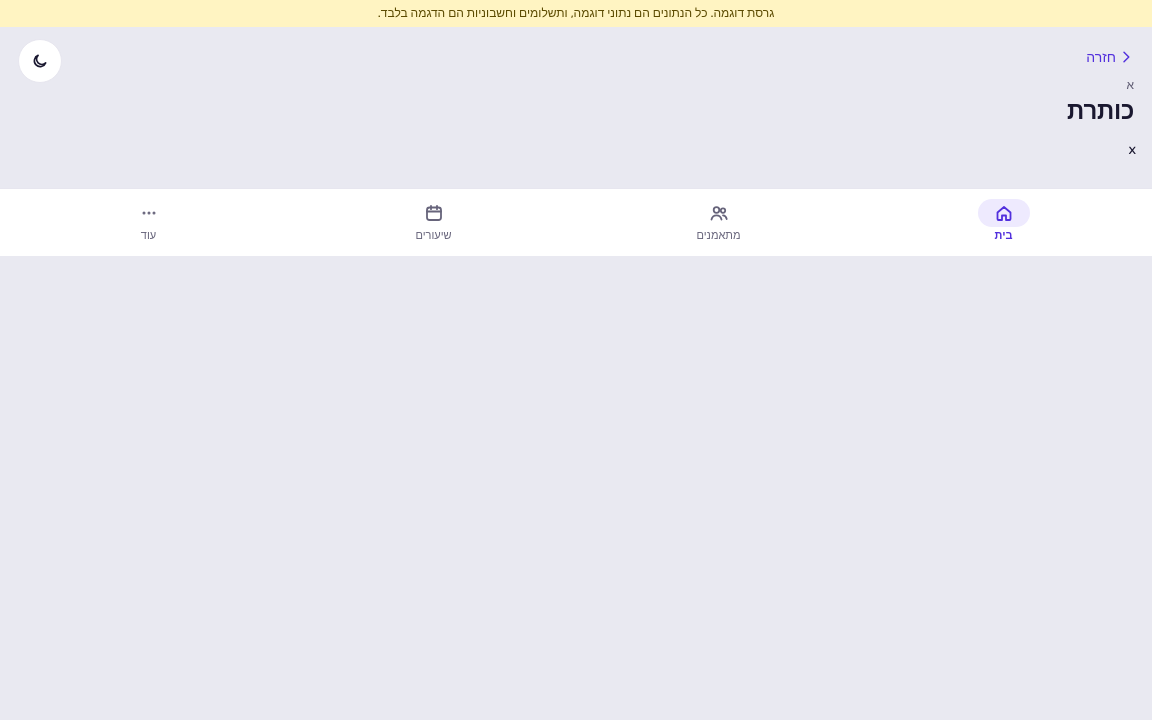
Test: finding 27: the theme button names the mode it moves to, and the choice is kept
Click the button named "מצב כהה" at (40, 61), box [18,39,62,83]
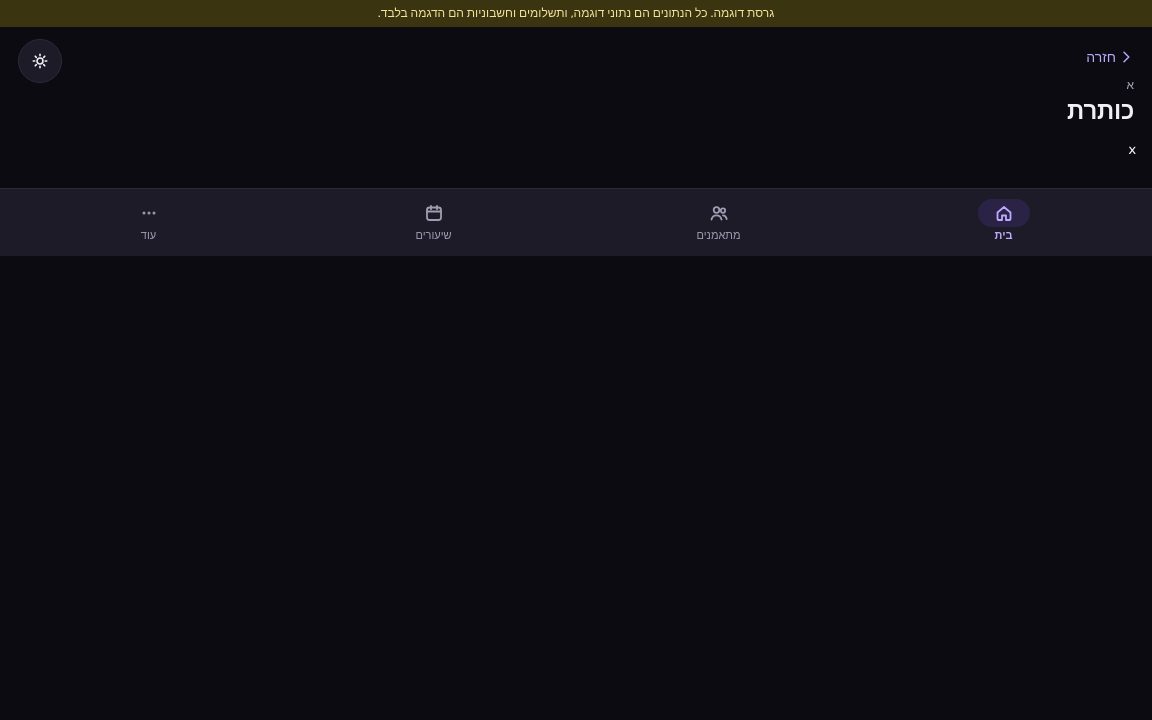
Expected: the button named "מצב בהיר" is shown, [18,39,62,83]
